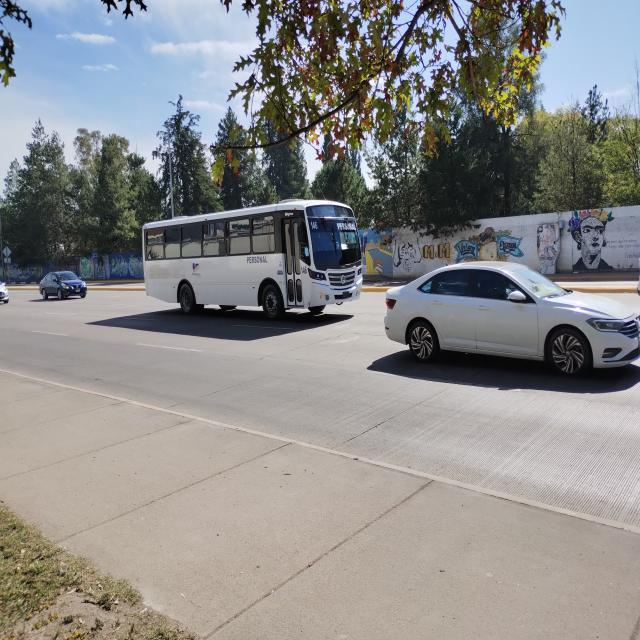Auto: (382, 258, 640, 383), (39, 270, 88, 301), (0, 281, 10, 305)
Autobus: (142, 198, 363, 320)
